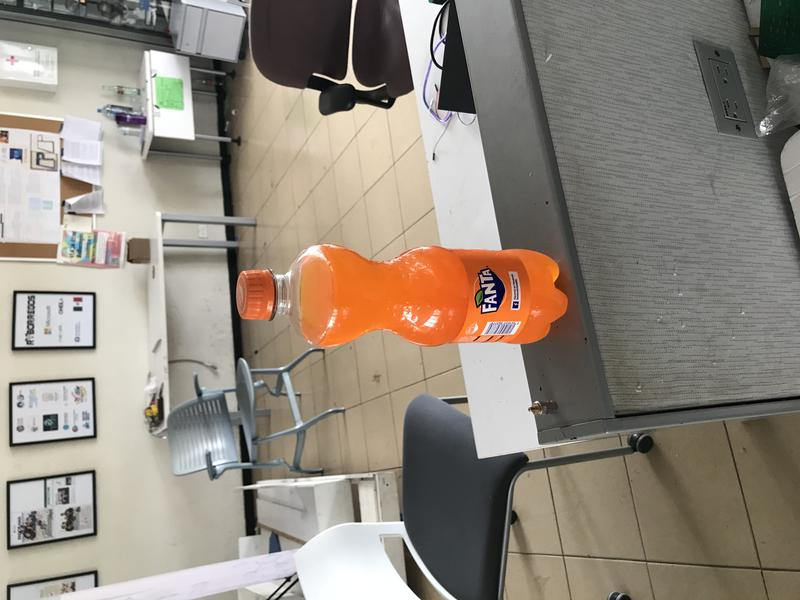fanta: (234, 243, 567, 348)
